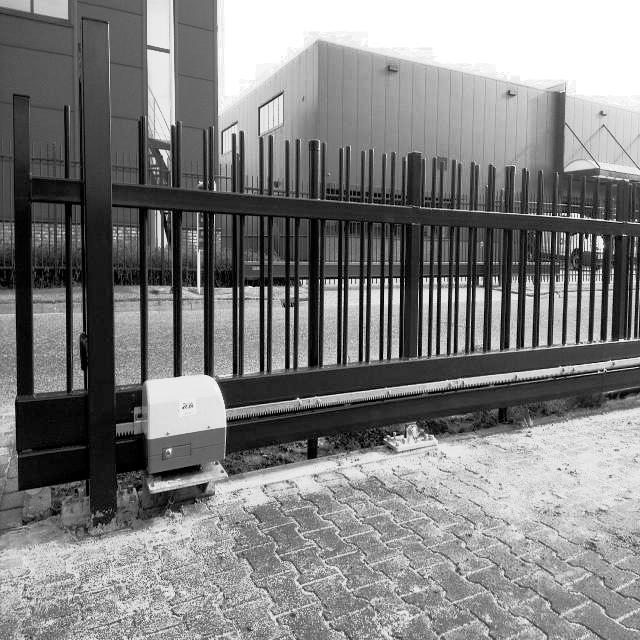fences: (24, 132, 632, 370)
